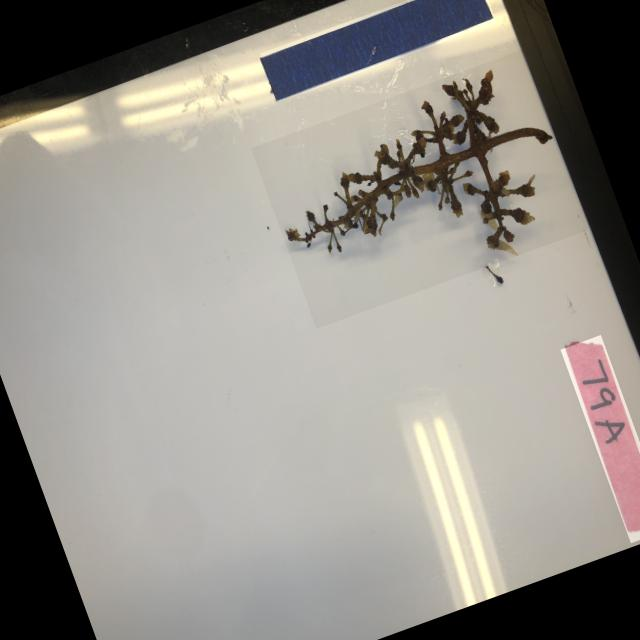index: (559, 335, 640, 543)
measure_label: (259, 0, 496, 103)
rachis_cluster: (250, 50, 588, 329)
